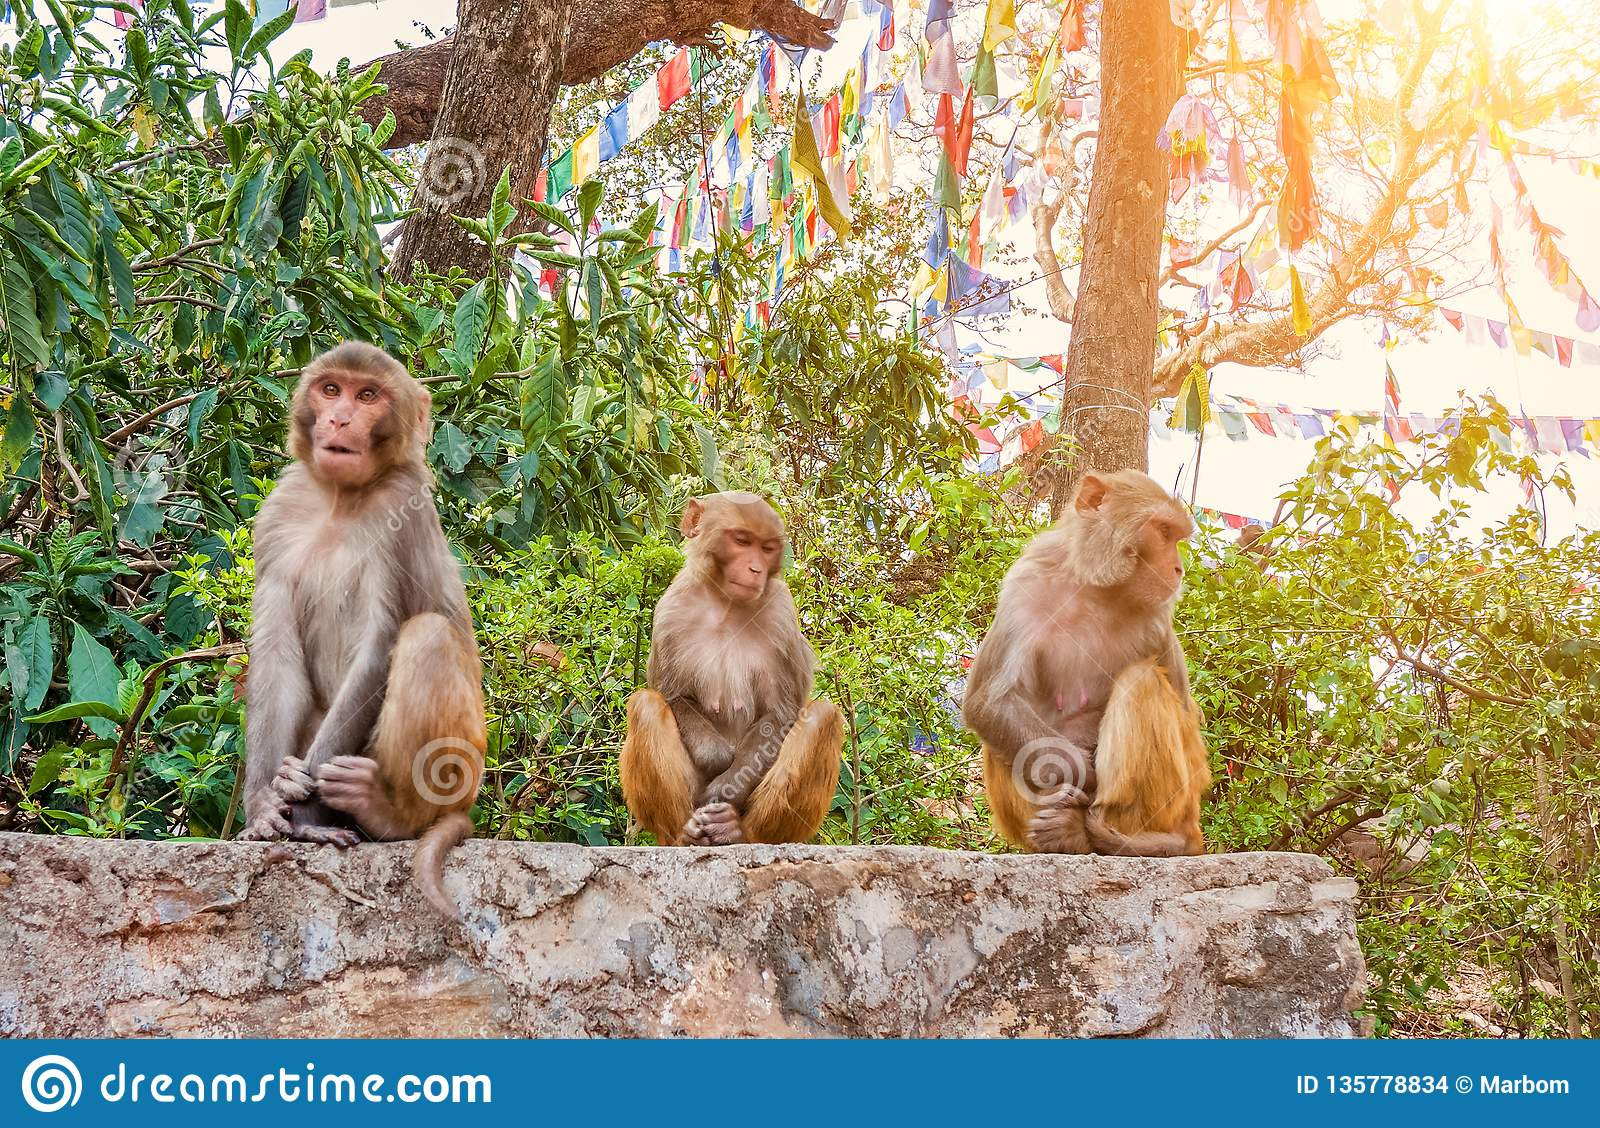monkey: (209, 326, 519, 839), (945, 460, 1253, 855), (597, 479, 868, 847)
